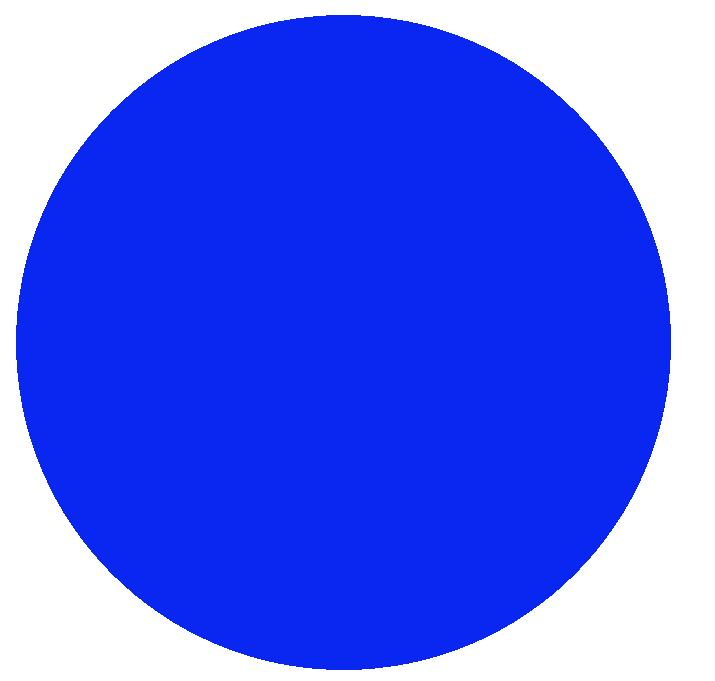blue_circle: (2, 3, 684, 681)
